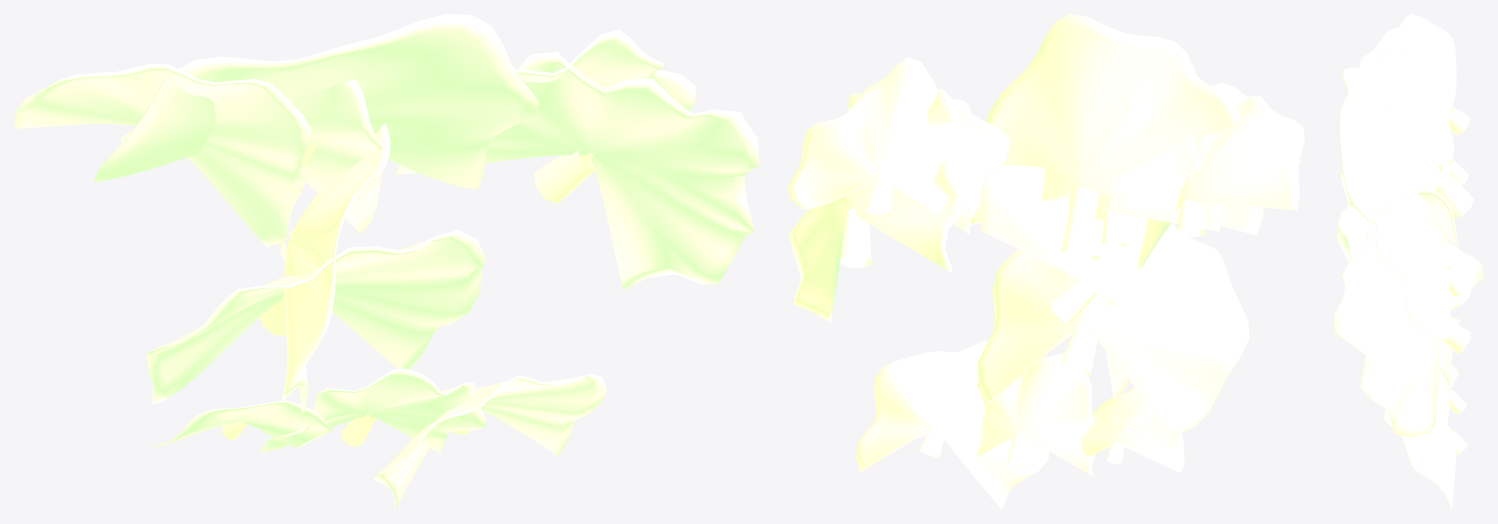
The model's file is ghost_wall_a.glb.
3 views of the same model, side by side, from view 1: azimuth 30°, elevation 25°; view 2: azimuth 150°, elevation 25°; view 3: azimuth 270°, elevation 25° (orthographic). The views are drawn at different scales.
Visible parts, largest first — view 1: ghost_wall_a; view 2: ghost_wall_a; view 3: ghost_wall_a.
Boxes of the visible parts, left/top/right/bottom form: ghost_wall_a: left=14, top=14, right=759, bottom=509; ghost_wall_a: left=788, top=14, right=1304, bottom=509; ghost_wall_a: left=1333, top=14, right=1483, bottom=509.
Size of the model in its own units: 2.58 by 2.02 by 0.7751.
